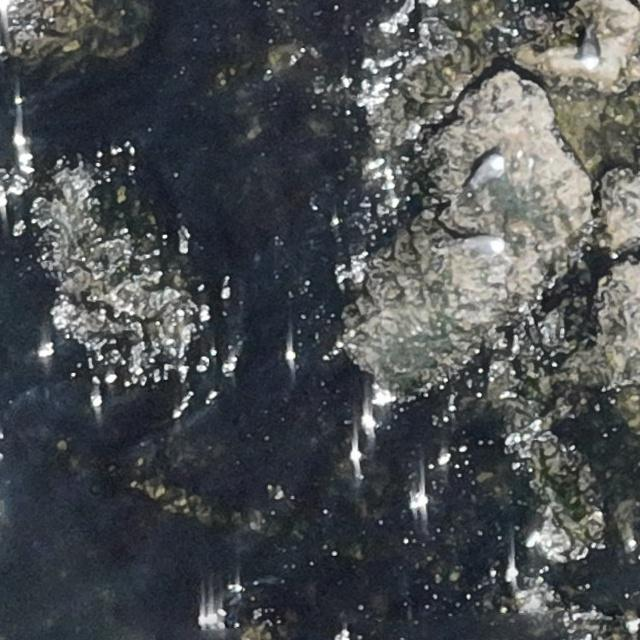umineko: (474, 156, 501, 184), (465, 236, 502, 253), (581, 37, 599, 69)
